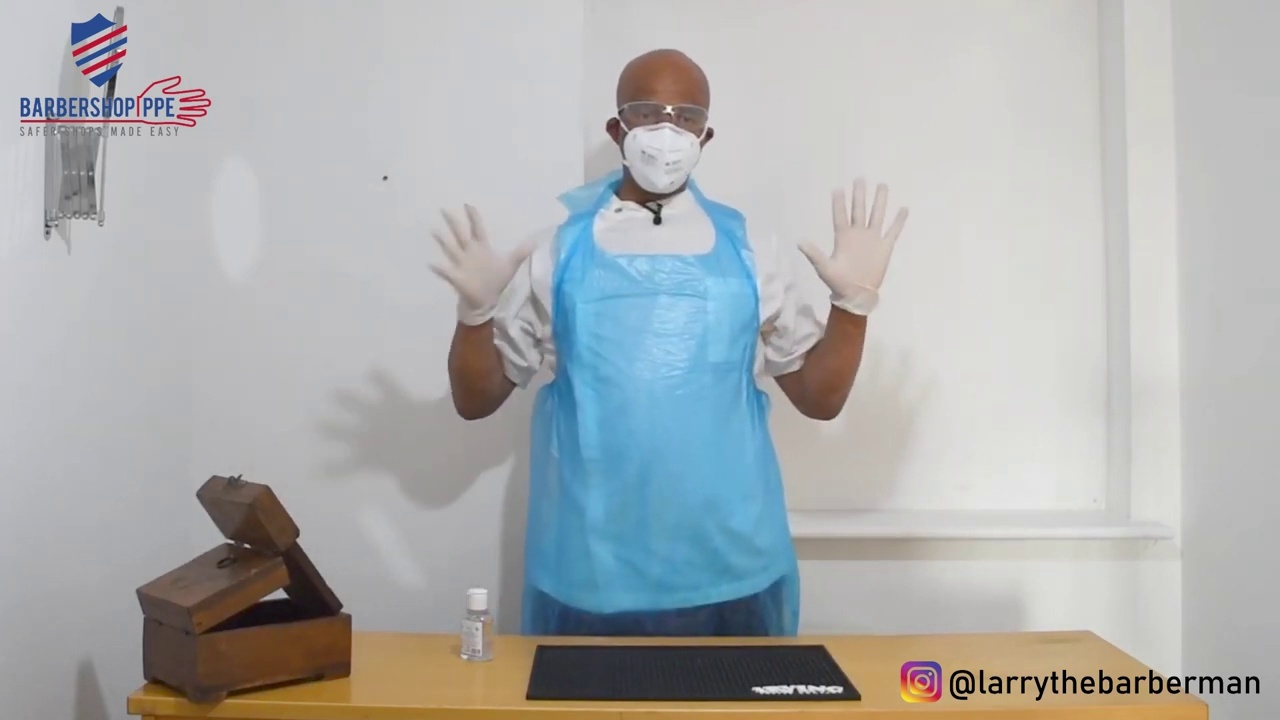Apron: (495, 166, 807, 644)
Glove: (396, 195, 543, 354), (764, 172, 913, 328)
Mask: (581, 116, 722, 201)
No_Hairnet: (606, 40, 720, 128)
